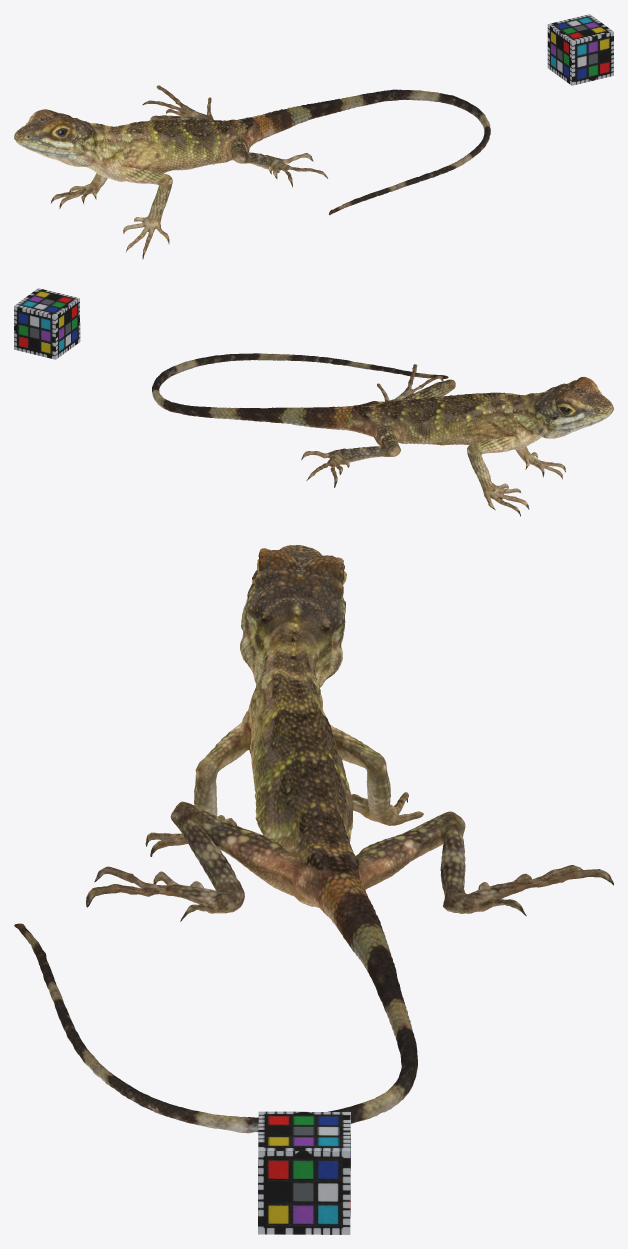
3 renders of one model, top to bottom at view 1: azimuth 30°, elevation 25°; view 2: azimuth 150°, elevation 25°; view 3: azimuth 270°, elevation 25°, orthographic. The views are drawn at different scales.
Visible parts, largest first — view 1: Q12076-1all-3_5, Cube_2; view 2: Q12076-1all-3_5, Cube_2; view 3: Q12076-1all-3_5, Cube_2.
Boxes of the visible parts, x1,y1,x2,y2 form: Q12076-1all-3_5: [14, 85, 490, 259]; Cube_2: [547, 14, 613, 85]; Q12076-1all-3_5: [152, 353, 613, 516]; Cube_2: [14, 288, 80, 359]; Q12076-1all-3_5: [14, 545, 613, 1133]; Cube_2: [258, 1111, 350, 1234].
Size of the model in its own units: 8.33 by 1.76 by 3.86.
2 materials, 2 textured.
